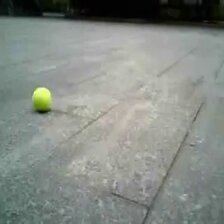tennis: (31, 88, 50, 109)
